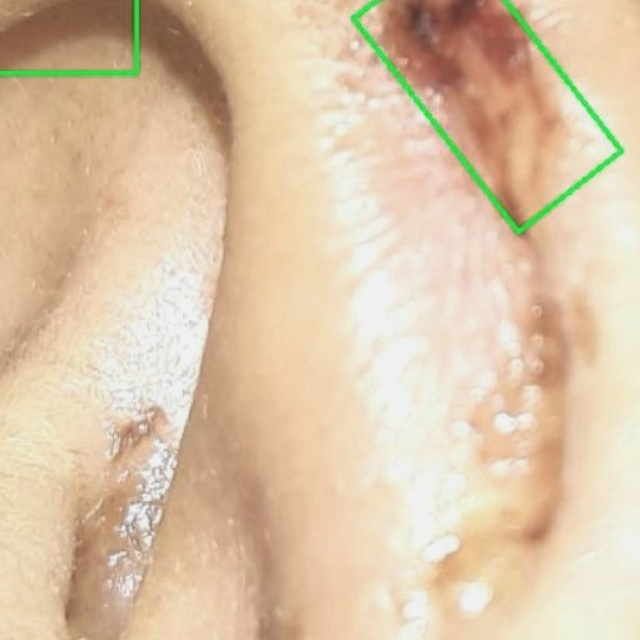Eczema: (354, 0, 622, 230)
